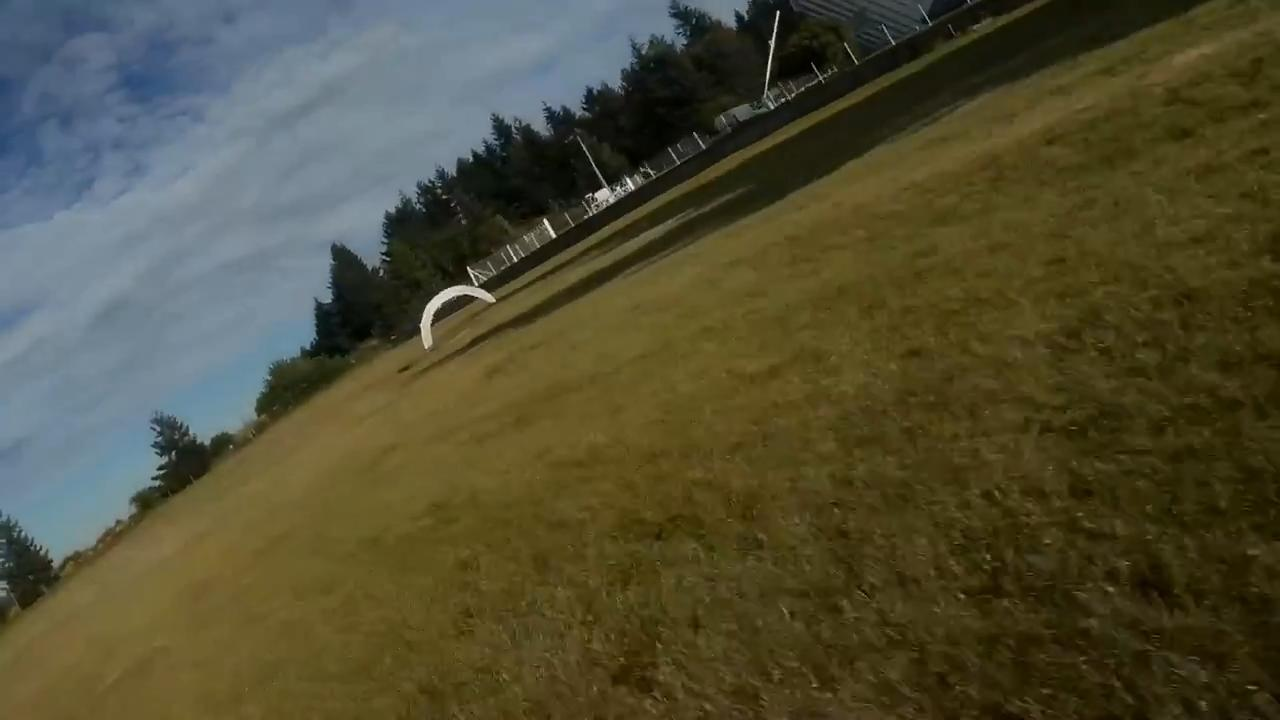gate: (420, 282, 493, 349)
